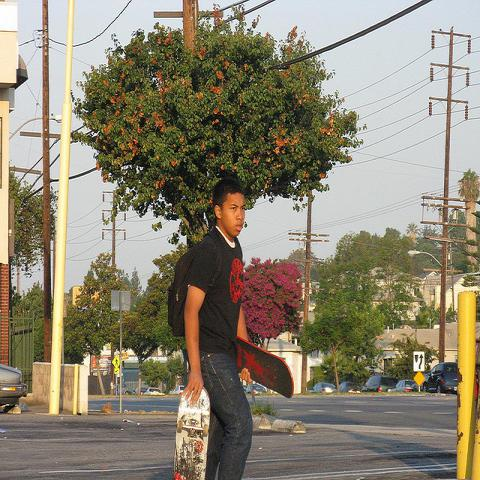car: (0, 363, 27, 407), (421, 363, 458, 393), (362, 375, 400, 393), (392, 380, 418, 393), (314, 382, 338, 394), (339, 382, 362, 392), (144, 388, 165, 396), (132, 386, 148, 396)
truck: (144, 387, 165, 396)
